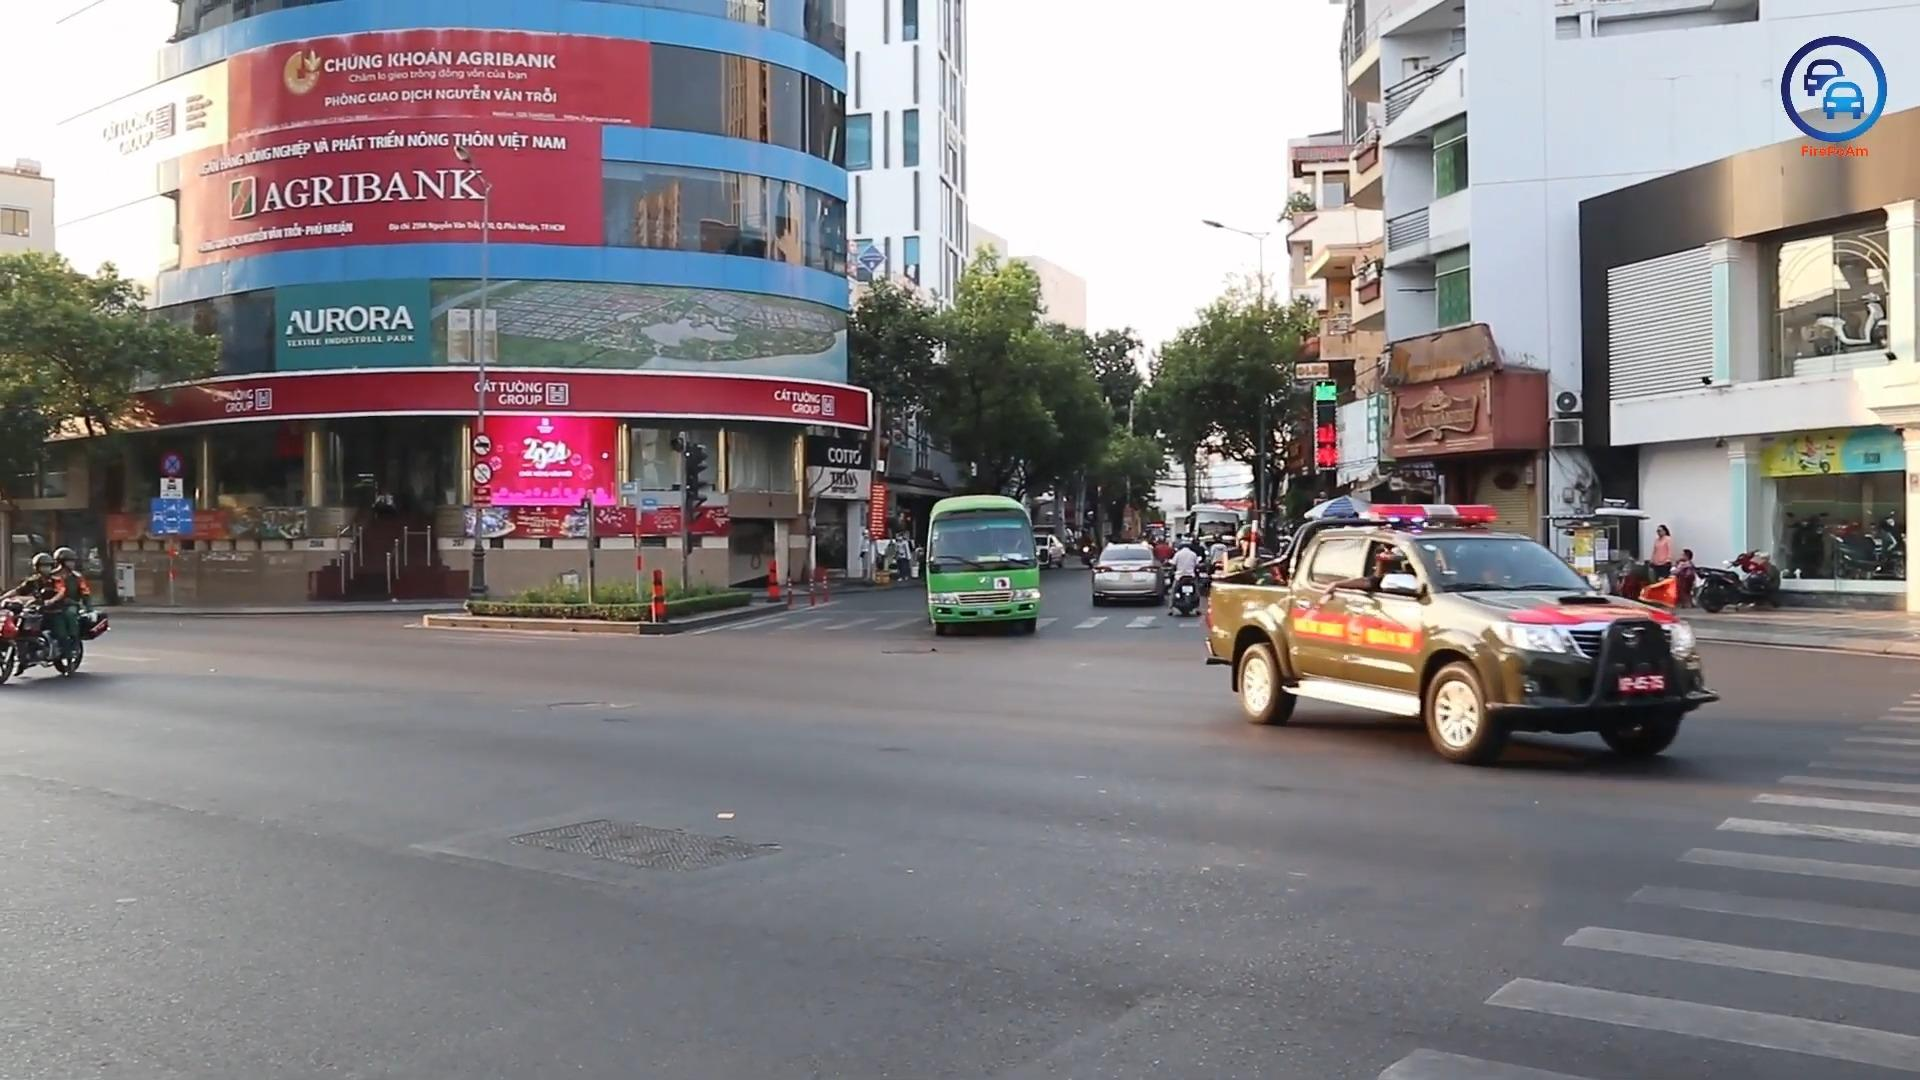bien_so: (1615, 670, 1667, 695)
